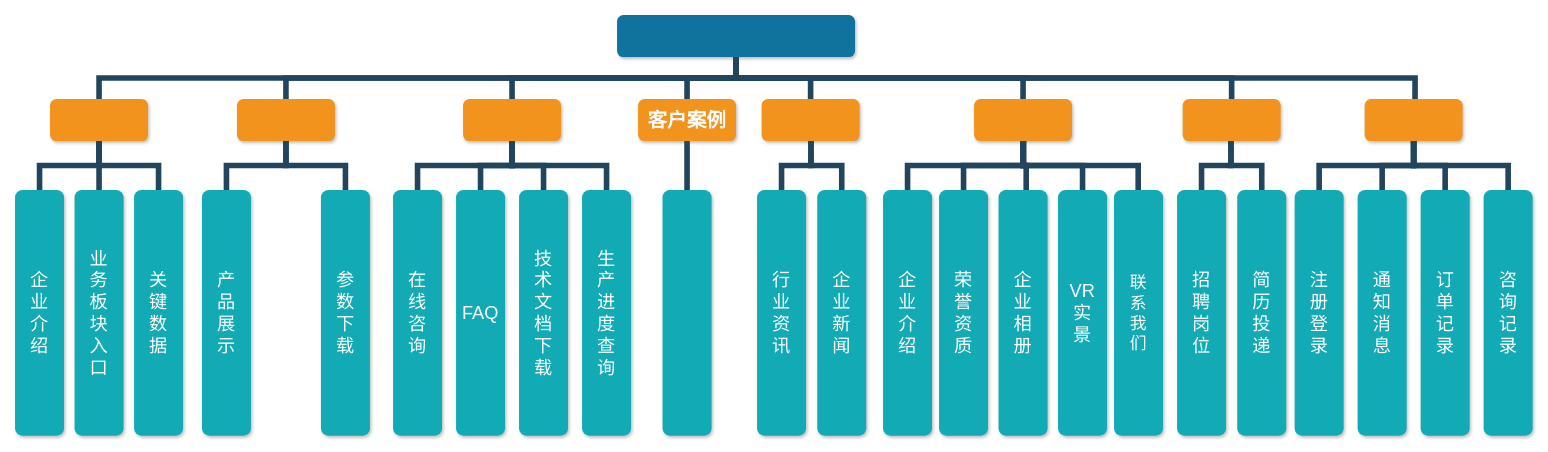
Image size: 1548x452. Some labels were removed from this diagram. The centre of each missing label's shape, as x and y in pixels:
"个人中心" belongs at point 1414,121.
"产品中心" belongs at point 286,121.
"关于我们" belongs at point 1023,121.
"加入我们" belongs at point 1232,121.
"客 户 案 例 展 示" belongs at point 687,313.
"新闻动态" belongs at point 810,121.
"服务支持" belongs at point 512,121.
"航天泵阀官网" belongs at point 736,37.
"首页" belongs at point 99,121.
